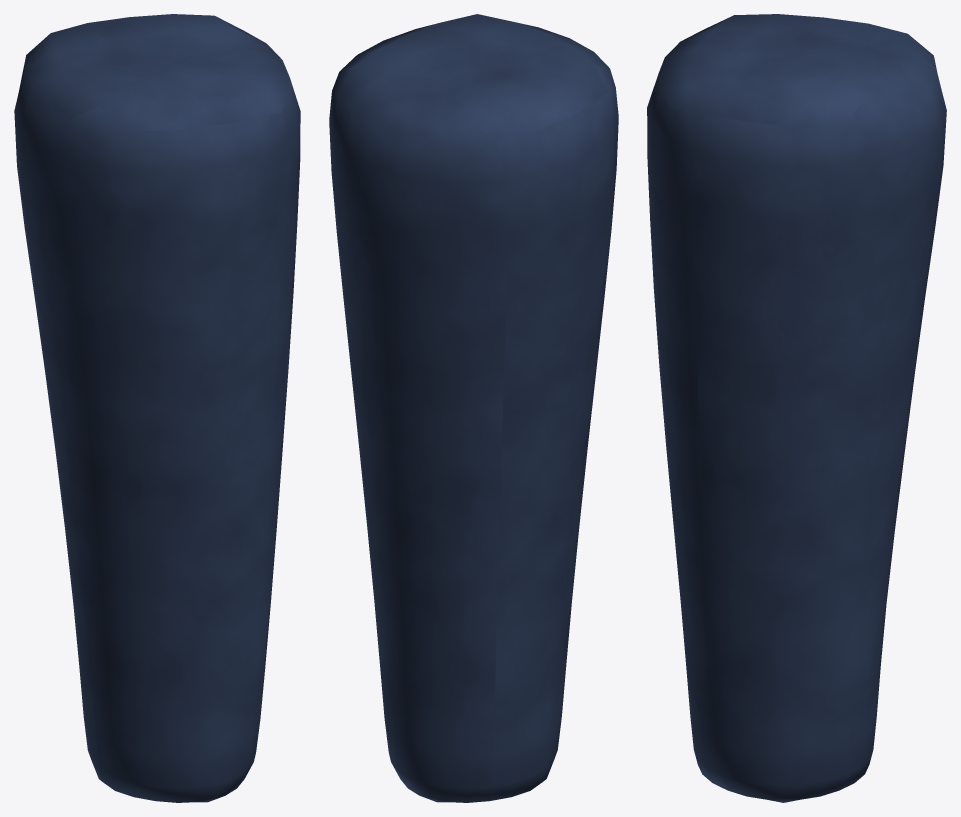
Rendered from musloder.obj.
3 views of the same model, side by side, from view 1: azimuth 30°, elevation 25°; view 2: azimuth 150°, elevation 25°; view 3: azimuth 270°, elevation 25° (orthographic).
Parts seen in each view (by area): view 1: MusloDer; view 2: MusloDer; view 3: MusloDer.
Part boxes in pixels (x1,y1,x2,y2): MusloDer: (14,14,300,802); MusloDer: (329,14,618,802); MusloDer: (647,14,946,802).
Bounding box in the file's own units: 0.1057 × 0.297 × 0.1123.
1 material, 1 textured.
